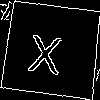X: (26, 24, 65, 75)
